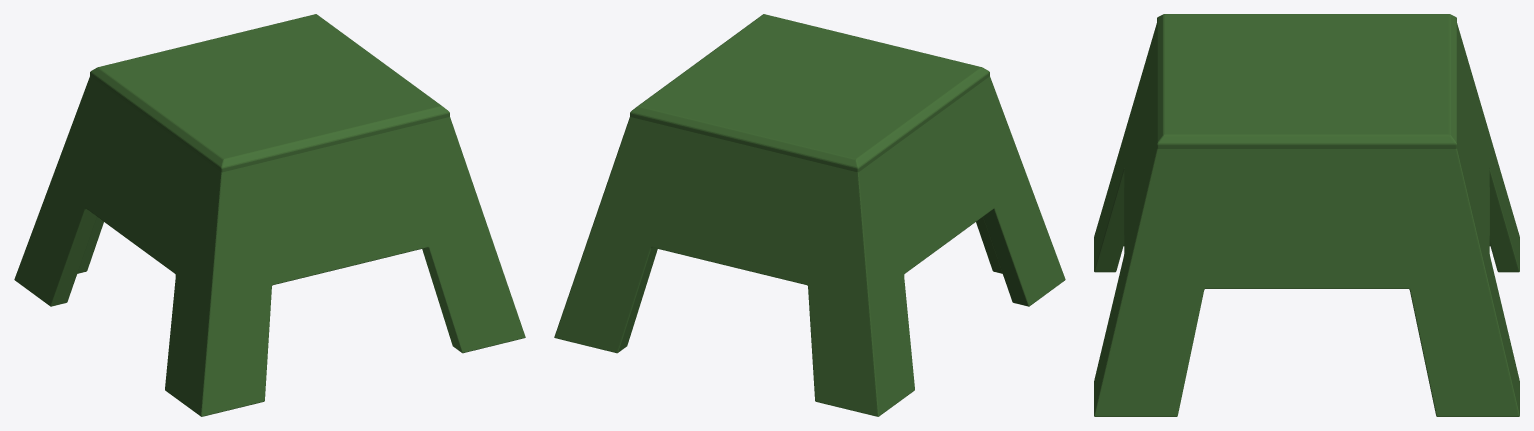
Rendered from Small Chair.fbx.
The picture shows the model from 3 angles, left to right: view 1: azimuth 30°, elevation 25°; view 2: azimuth 150°, elevation 25°; view 3: azimuth 270°, elevation 25°; orthographic projection. The views are drawn at different scales.
Visible parts, largest first — view 1: Small Chair; view 2: Small Chair; view 3: Small Chair.
Boxes of the visible parts, x1,y1,x2,y2 form: Small Chair: (14, 14, 525, 416); Small Chair: (554, 14, 1065, 416); Small Chair: (1094, 14, 1519, 416).
Size of the model in its own units: 246 by 161 by 246.
